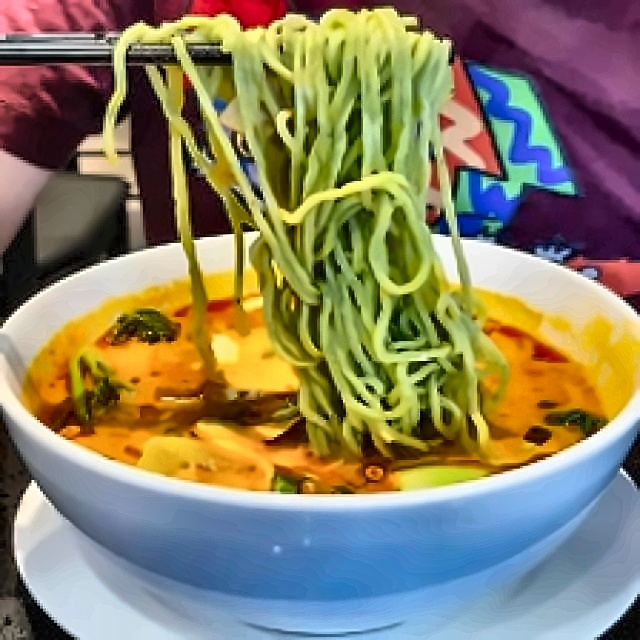noodle: (152, 9, 485, 439)
